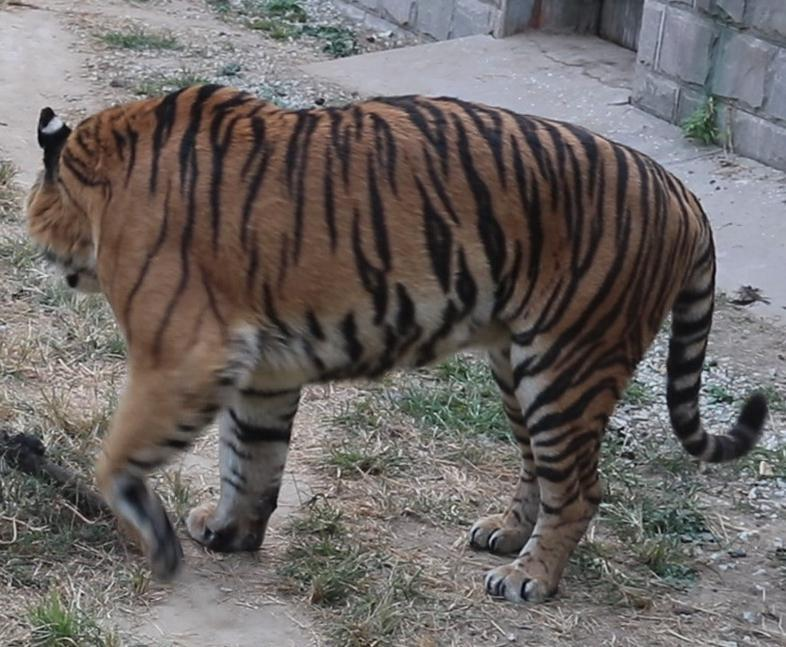tiger: (27, 84, 766, 601)
